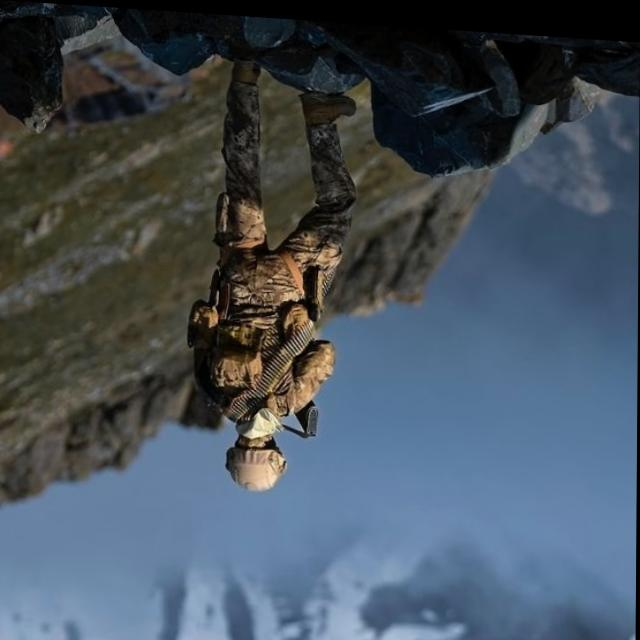poh_personel: (188, 54, 358, 494)
